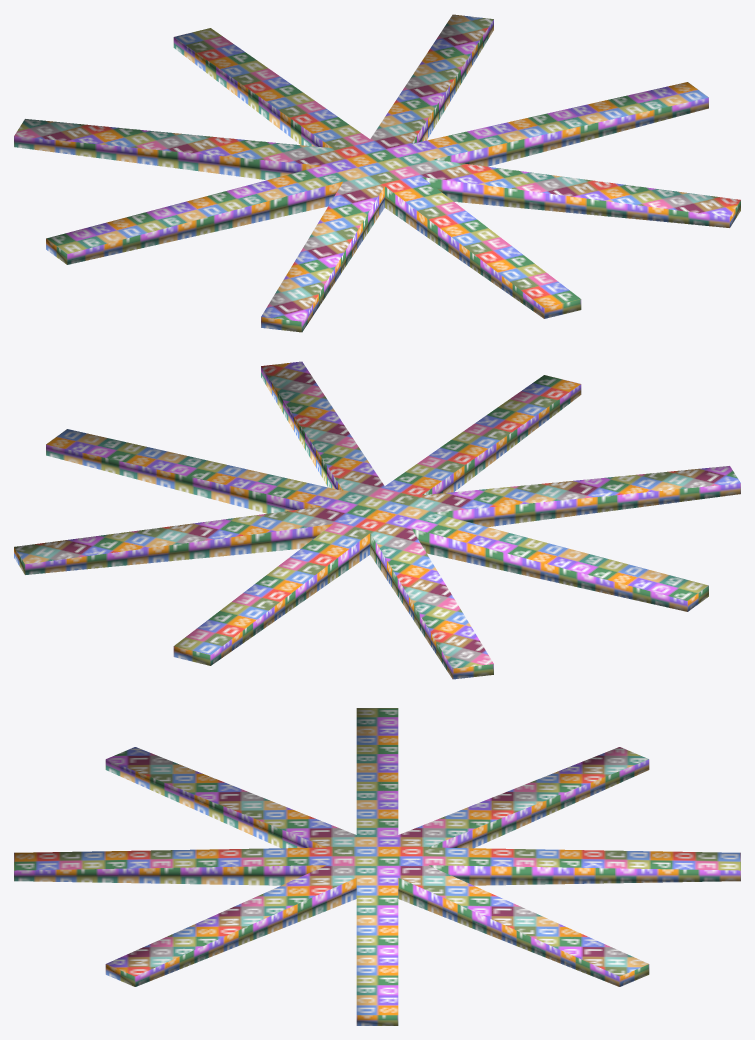
The model's file is helix_main.obj.
The picture shows the model from 3 angles, top to bottom: view 1: azimuth 30°, elevation 25°; view 2: azimuth 150°, elevation 25°; view 3: azimuth 270°, elevation 25°; orthographic projection.
Parts seen in each view (by area): view 1: cylinder1; view 2: cylinder1; view 3: cylinder1.
Boxes of the visible parts, x1,y1,x2,y2 form: cylinder1: (14, 14, 740, 332); cylinder1: (14, 361, 740, 679); cylinder1: (14, 708, 740, 1025).
Size of the model in its own units: 9.29 by 0.3 by 9.29.
Materials: 1 (1 with a texture image).
